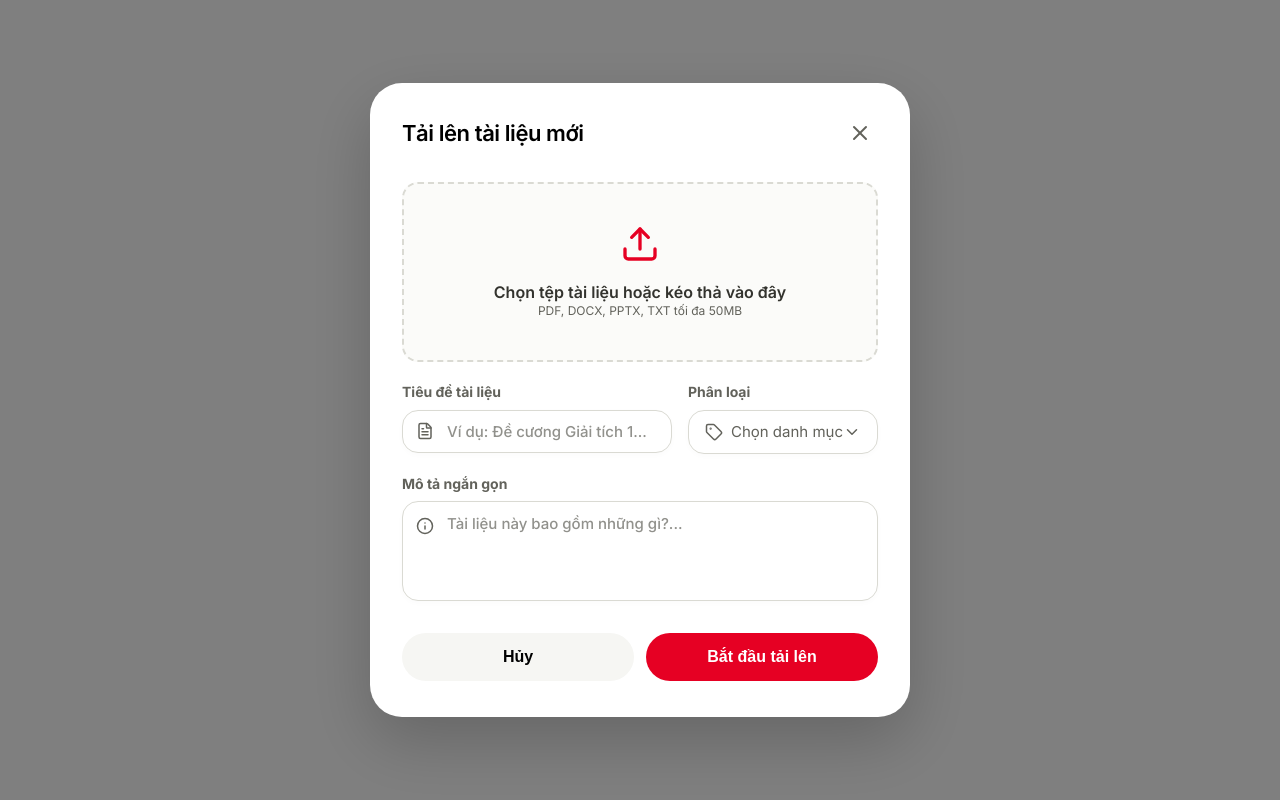
Test: UploadDocModal › submit_without_file_sets_error
Expected: the heading "Tải lên tài liệu mới" is shown, [402,120,584,148]
Type "Tiêu đề" into the field with placeholder "Ví dụ: Đề cương Giải tích 1...".
click(537, 431); type("Tiêu đề")  # box [402,410,672,453]
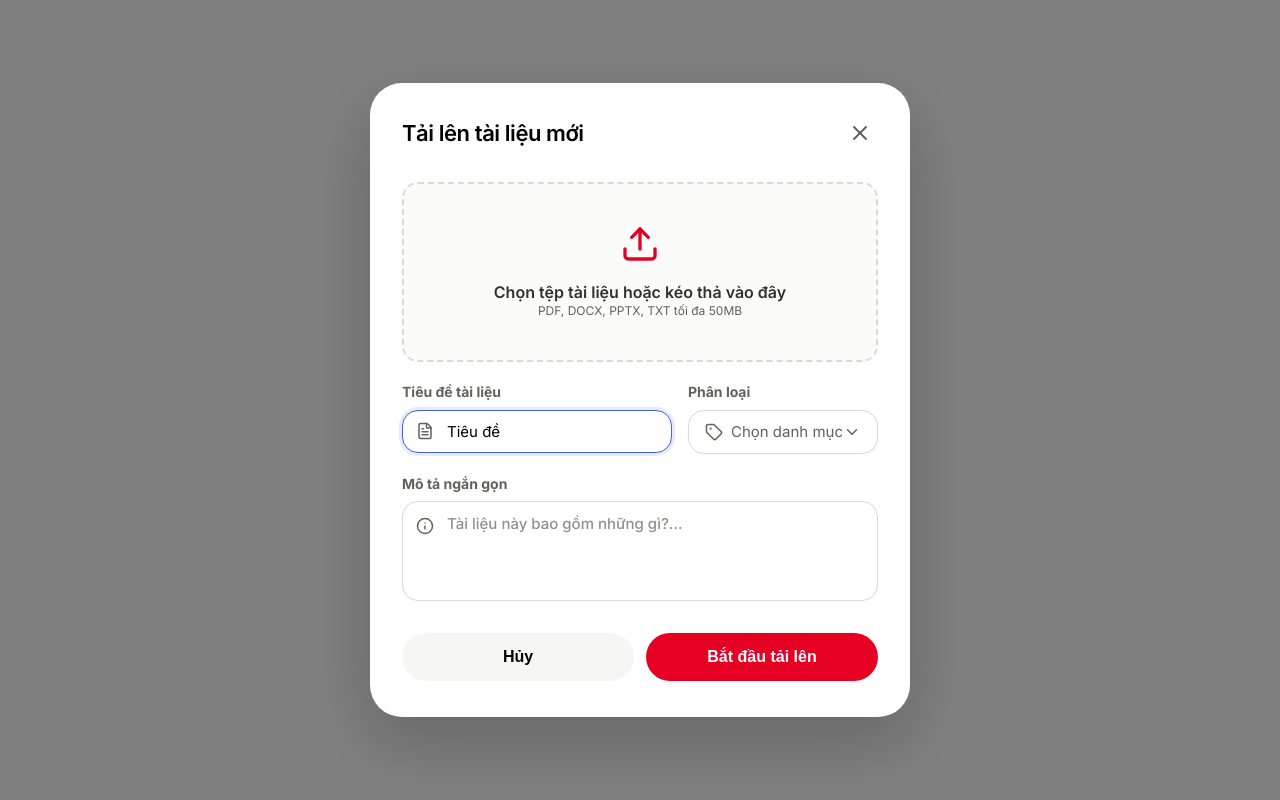
Click the button "Chọn danh mục".
click(783, 432)  # box [688,410,878,454]
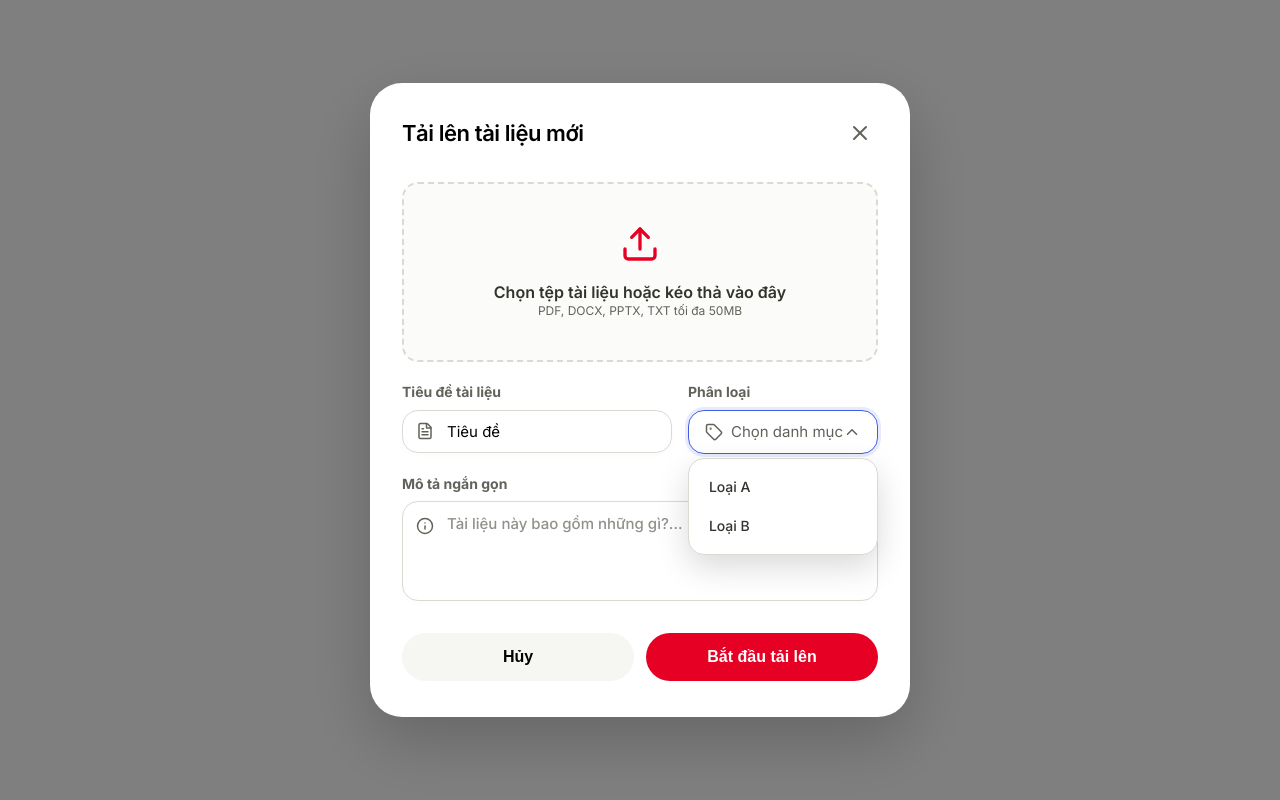
Click the text "Loại A".
click(730, 486)  # box [709,478,750,495]
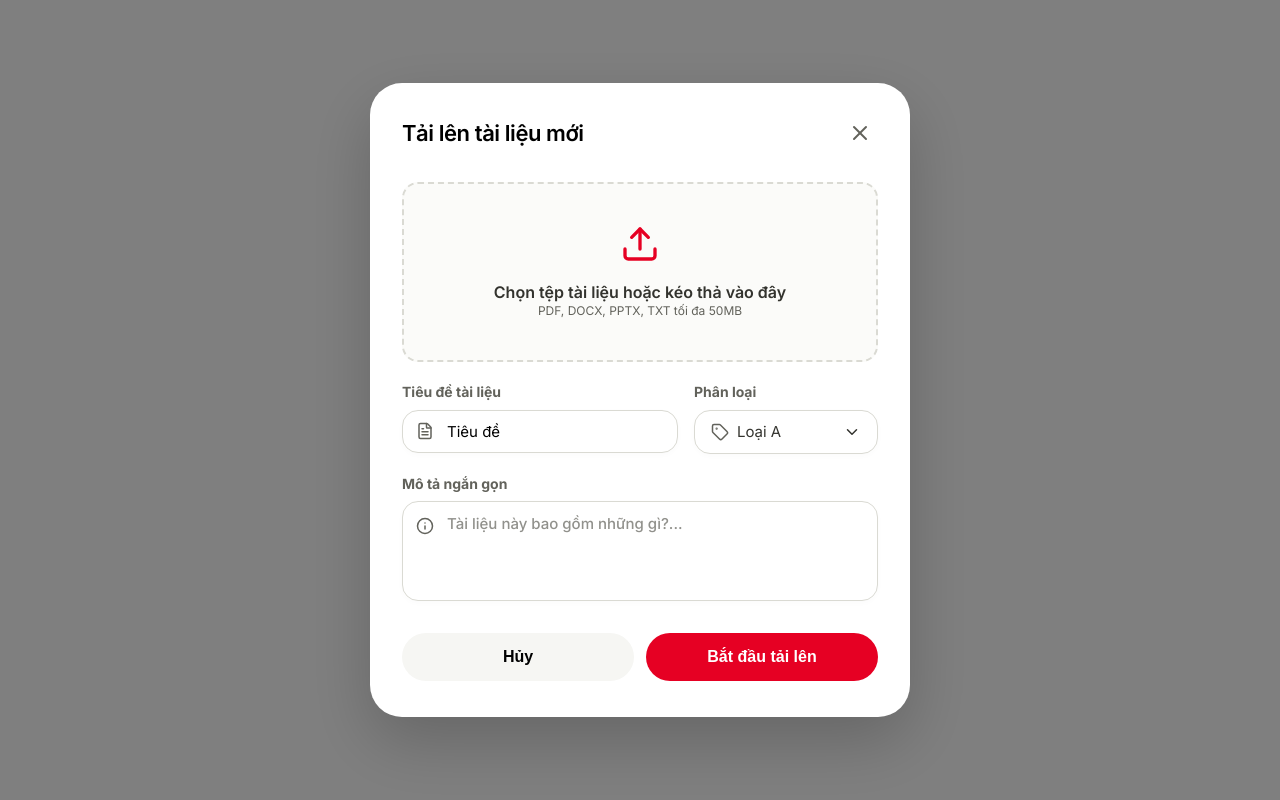
Submit the form with placeholder "Ví dụ: Đề cương", box [402,178,878,685]
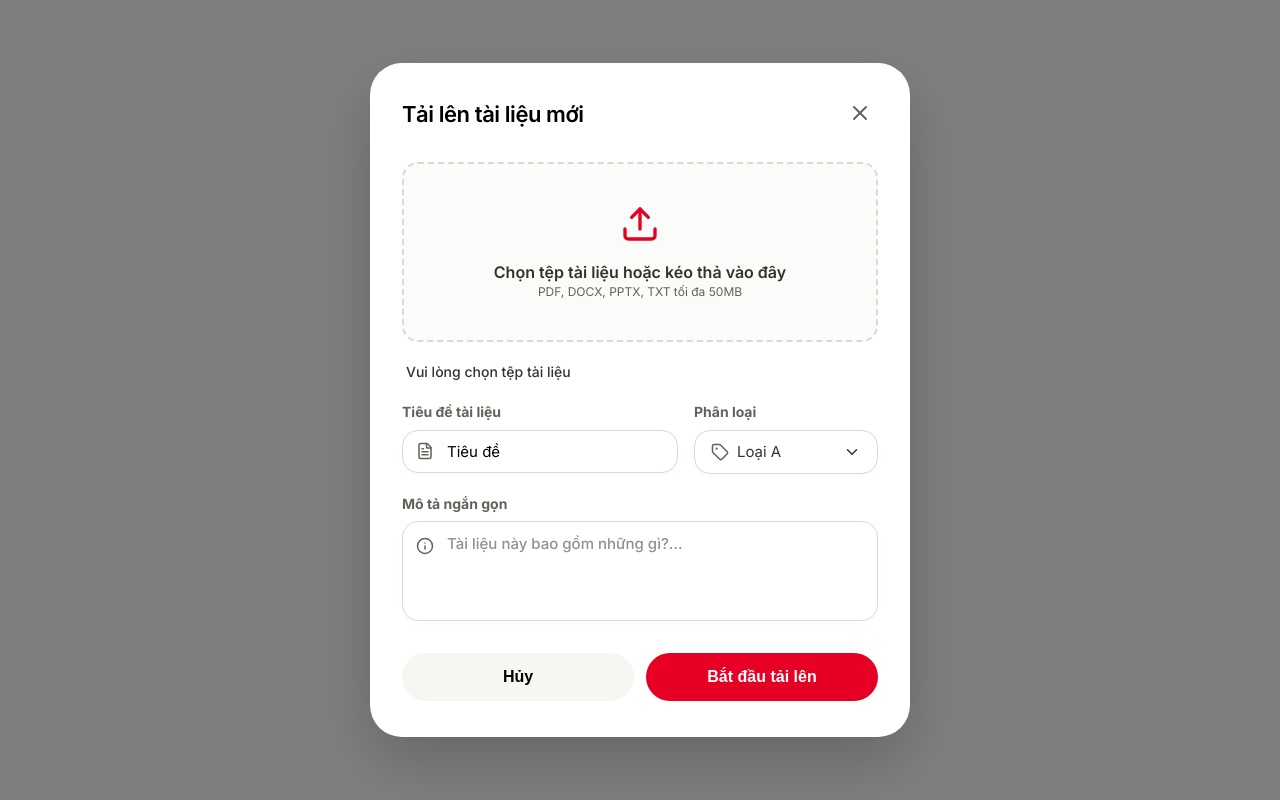
Now the text "Vui lòng chọn tệp tài liệu" is shown, box [406,363,571,380]
